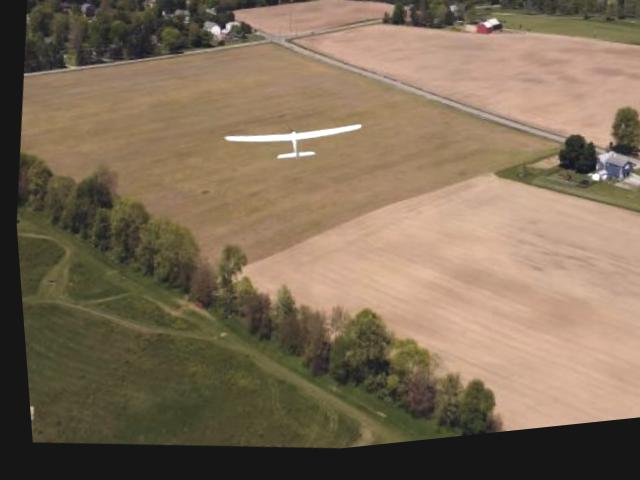uav: (208, 96, 376, 201)
